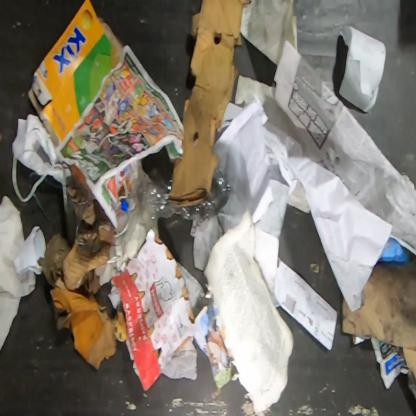cardboard: (170, 0, 250, 209), (107, 226, 196, 392), (29, 0, 125, 148), (339, 266, 415, 414), (36, 174, 117, 295), (49, 288, 128, 370)
rigid_plastic: (120, 168, 231, 220)
